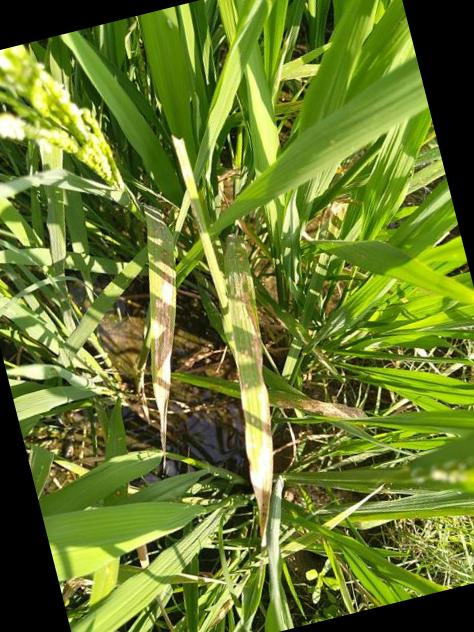Leaf Streak: (225, 243, 275, 539), (141, 199, 178, 477), (299, 399, 369, 421)
